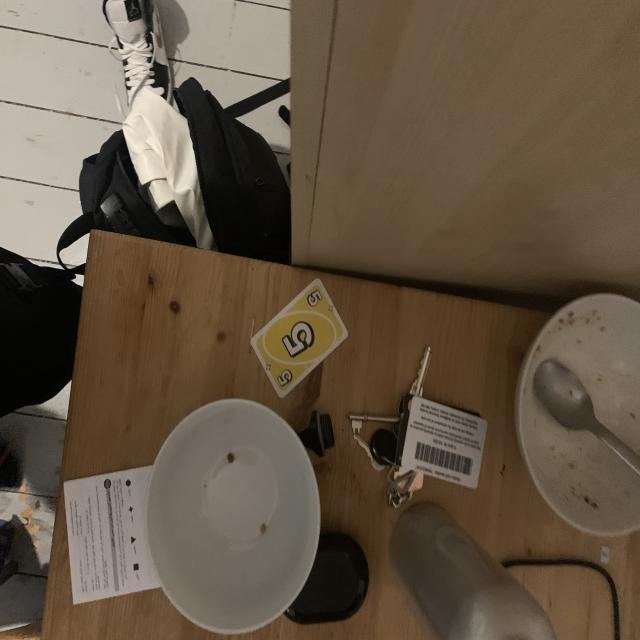lyellow-5: (305, 286, 323, 308)
